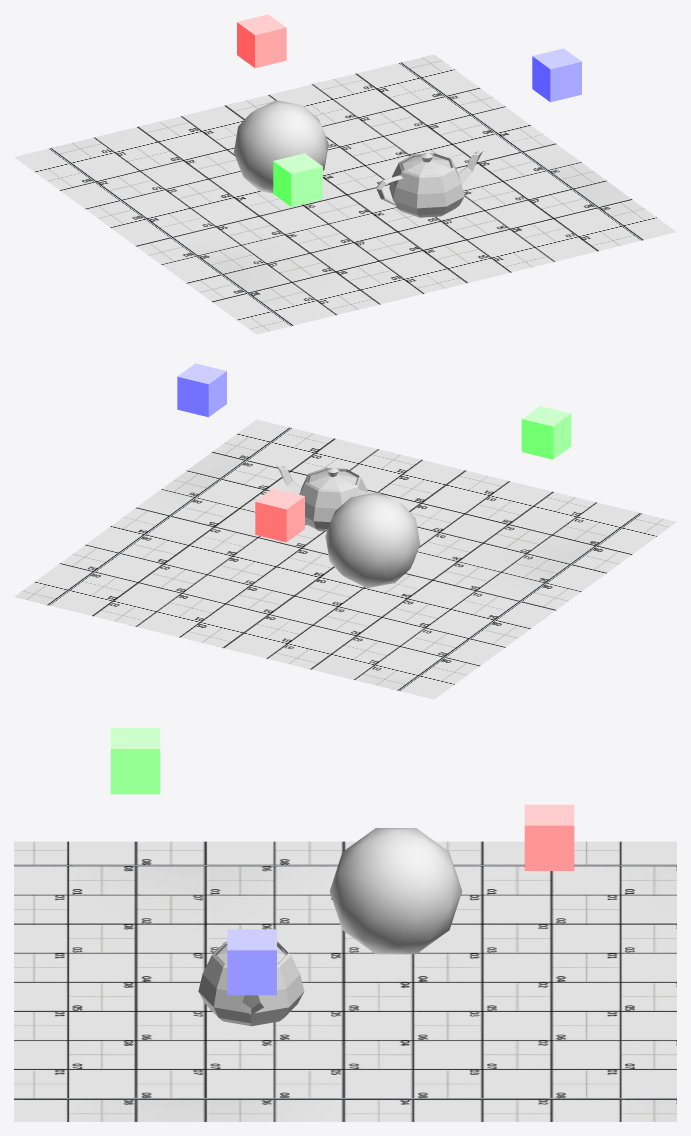
Rendered from emissive_test.glb.
3 renders of one model, top to bottom at view 1: azimuth 30°, elevation 25°; view 2: azimuth 150°, elevation 25°; view 3: azimuth 270°, elevation 25°, orthographic. The views are drawn at different scales.
Parts seen in each view (by area): view 1: floor, Icosphere, Teapot, lightCube, lightCube.001, lightCube.002; view 2: floor, Icosphere, Teapot, lightCube.002, lightCube, lightCube.001; view 3: floor, Icosphere, Teapot, lightCube.001, lightCube.002, lightCube.
Part boxes in pixels (x1,y1,x2,y2): floor: (14, 54, 676, 334); Icosphere: (234, 100, 328, 193); Teapot: (376, 150, 483, 217); lightCube: (532, 48, 581, 102); lightCube.001: (237, 14, 286, 68); lightCube.002: (273, 153, 322, 206); floor: (14, 419, 676, 699); Icosphere: (325, 492, 420, 587); Teapot: (276, 465, 371, 531); lightCube.002: (521, 406, 571, 459); lightCube: (177, 363, 226, 417); lightCube.001: (255, 488, 304, 542); floor: (14, 841, 676, 1121); Icosphere: (329, 828, 462, 954); Teapot: (198, 941, 304, 1026); lightCube.001: (524, 804, 574, 870); lightCube.002: (110, 728, 160, 794); lightCube: (227, 929, 276, 995).
Size of the model in its own units: 2 by 0.5336 by 2.
6 materials, 1 textured.
